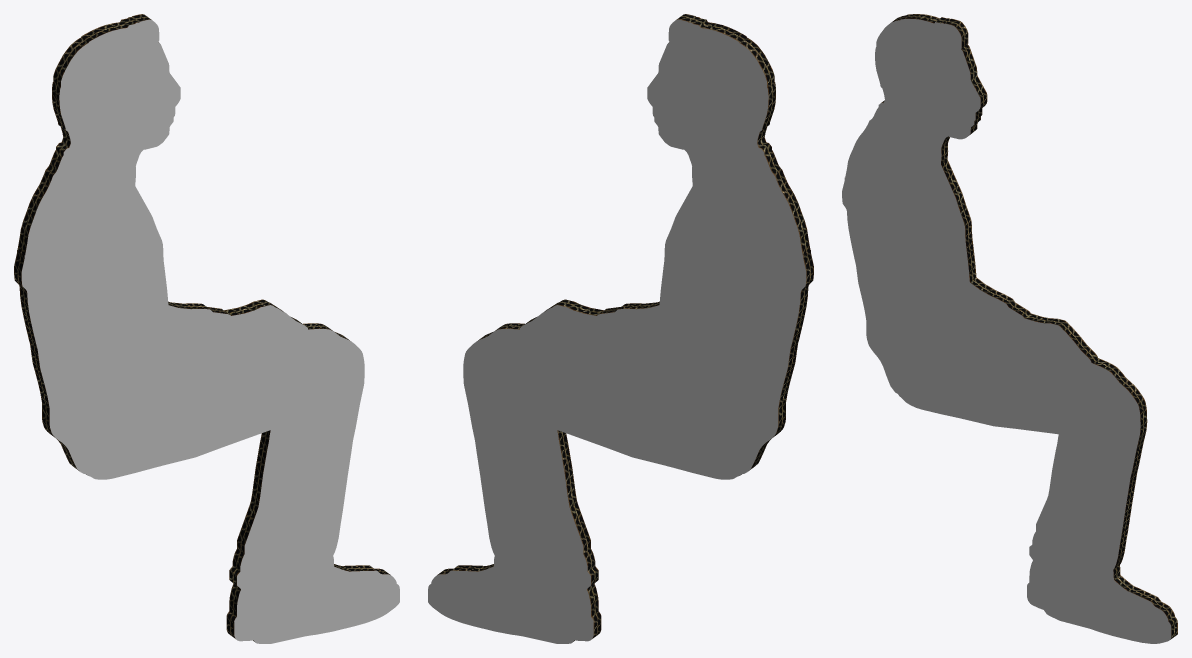
The model's file is NPC_Applicant_Well_Dressed_Sat_Upright_Male.FBX.
The picture shows the model from 3 angles, left to right: view 1: azimuth 30°, elevation 25°; view 2: azimuth 150°, elevation 25°; view 3: azimuth 330°, elevation 25°; orthographic projection. The views are drawn at different scales.
Parts seen in each view (by area): view 1: NPC_Applicant_Well_Dressed_Sat_Upright_Male; view 2: NPC_Applicant_Well_Dressed_Sat_Upright_Male; view 3: NPC_Applicant_Well_Dressed_Sat_Upright_Male.
Boxes of the visible parts, left/top/right/bottom form: NPC_Applicant_Well_Dressed_Sat_Upright_Male: left=14, top=14, right=399, bottom=643; NPC_Applicant_Well_Dressed_Sat_Upright_Male: left=428, top=14, right=813, bottom=643; NPC_Applicant_Well_Dressed_Sat_Upright_Male: left=842, top=14, right=1177, bottom=643.
Size of the model in its own units: 34.69 by 57.56 by 1.21.
